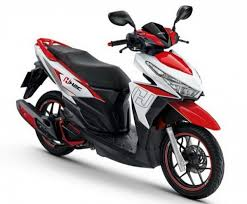motorcycle: (14, 6, 225, 200)
